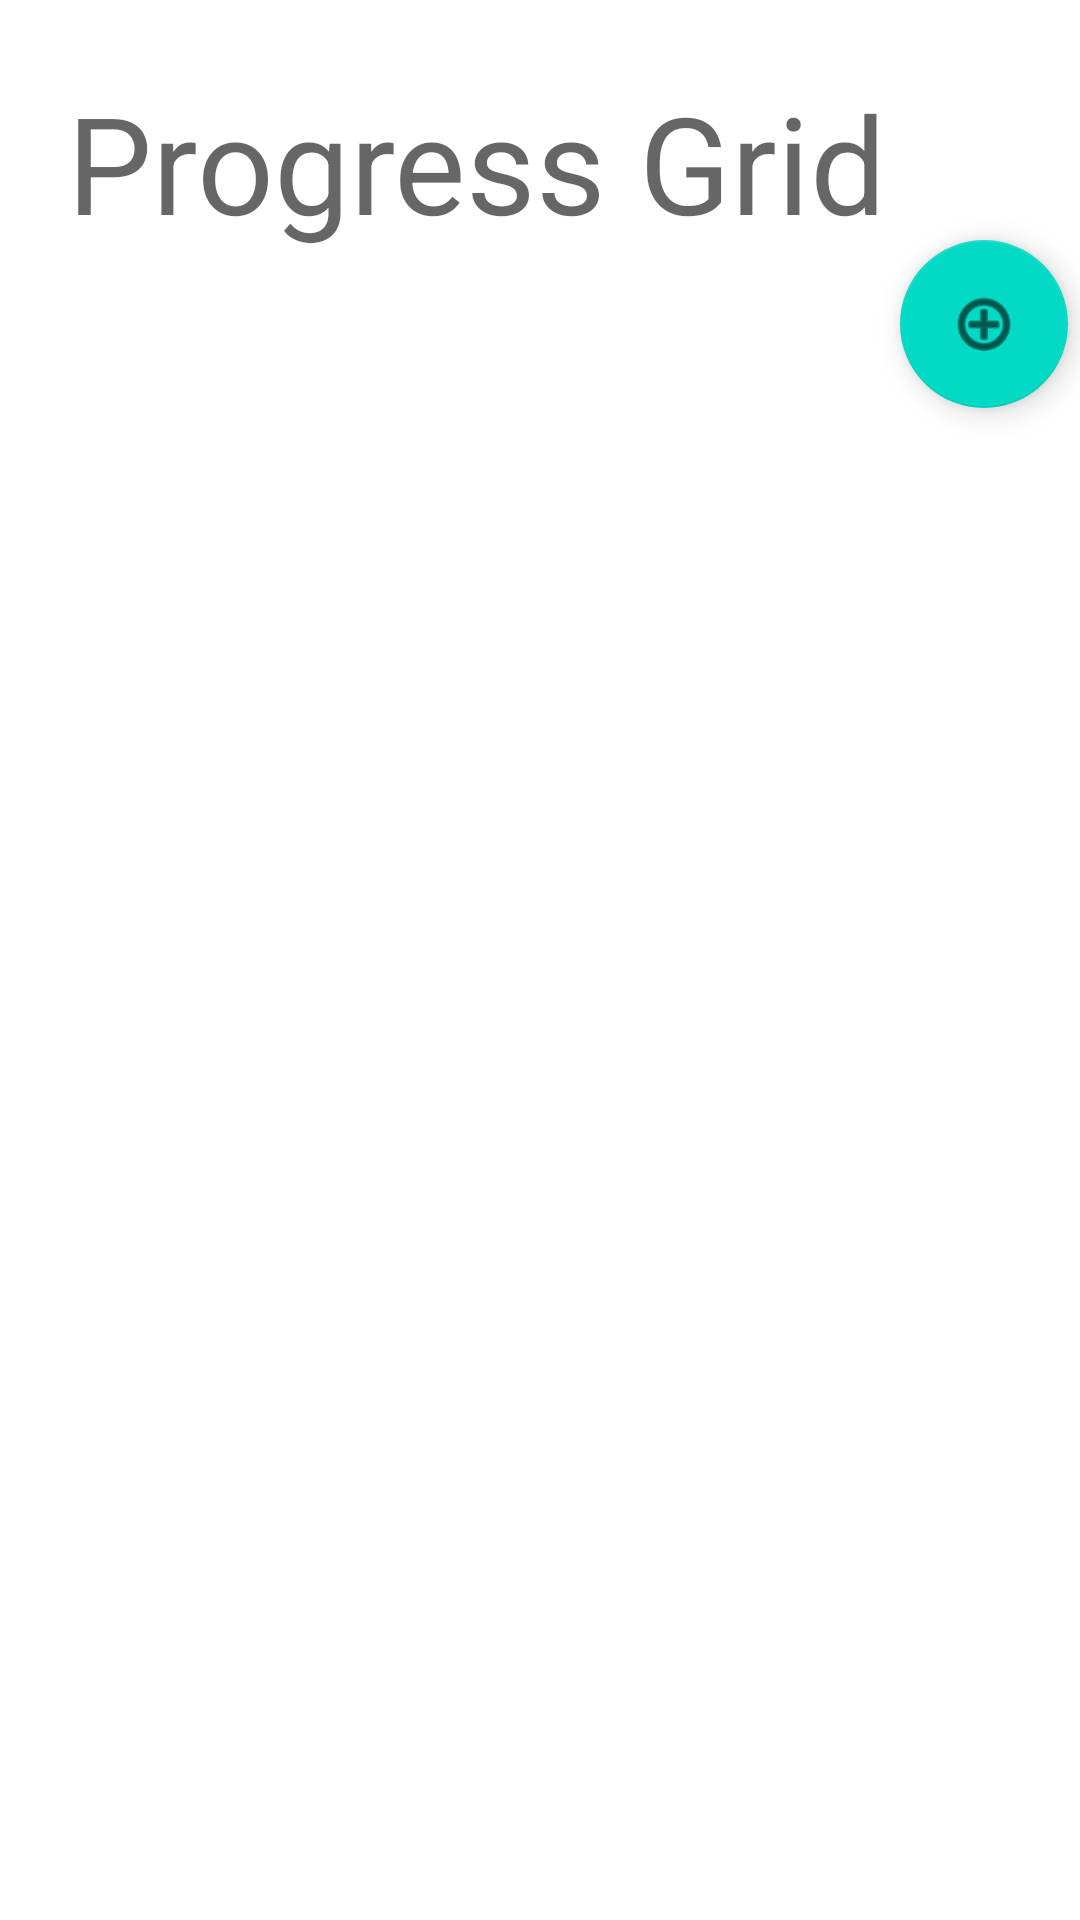

Point at icon controls on the screen. Image size 1080x1920, points as [x,y].
add: [984,324]
